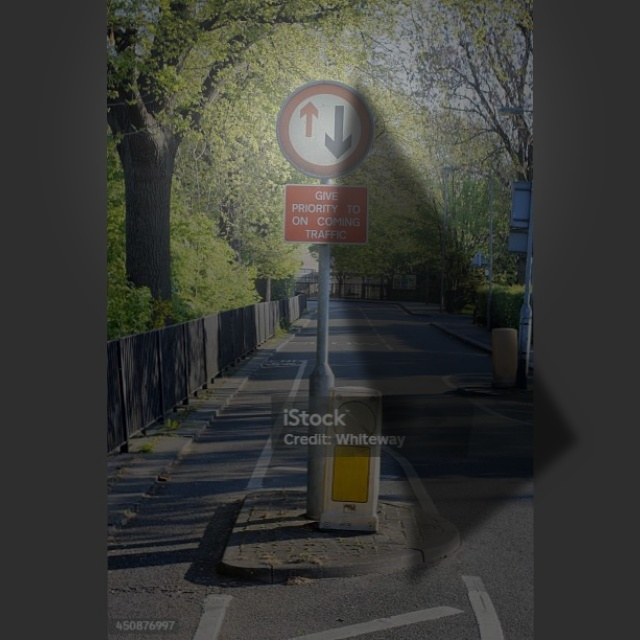Priority_for_Oncoming_Traffic: (279, 82, 374, 178)
